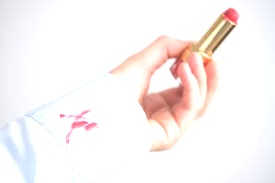lipstick: (56, 107, 102, 143), (70, 117, 119, 137), (70, 117, 97, 134)
